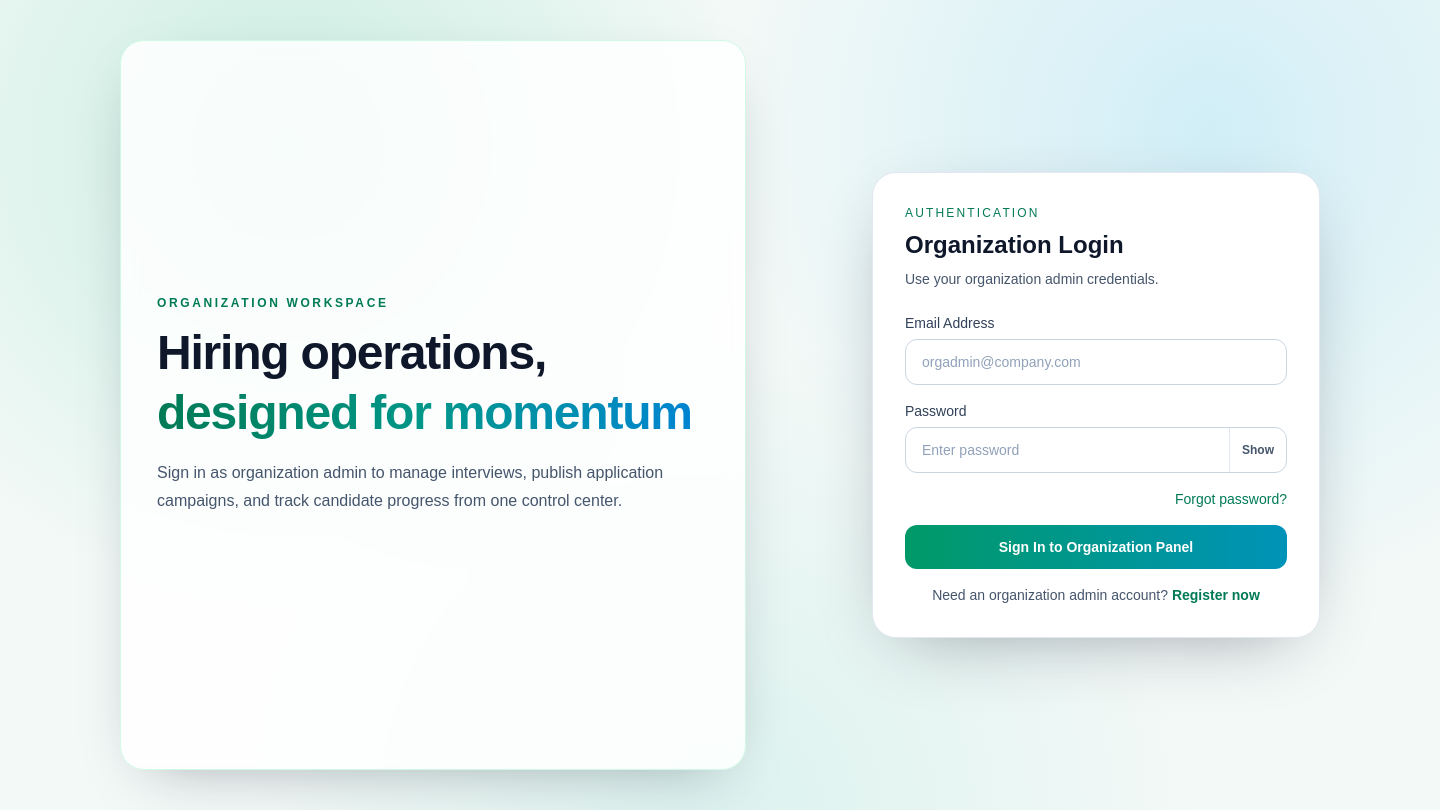
OrganizationAuthPage › shows validation error when email/password are empty
Step 1. Click the button "Sign In to Organization Panel" → coordinates (1096, 547), box [905, 525, 1287, 569]
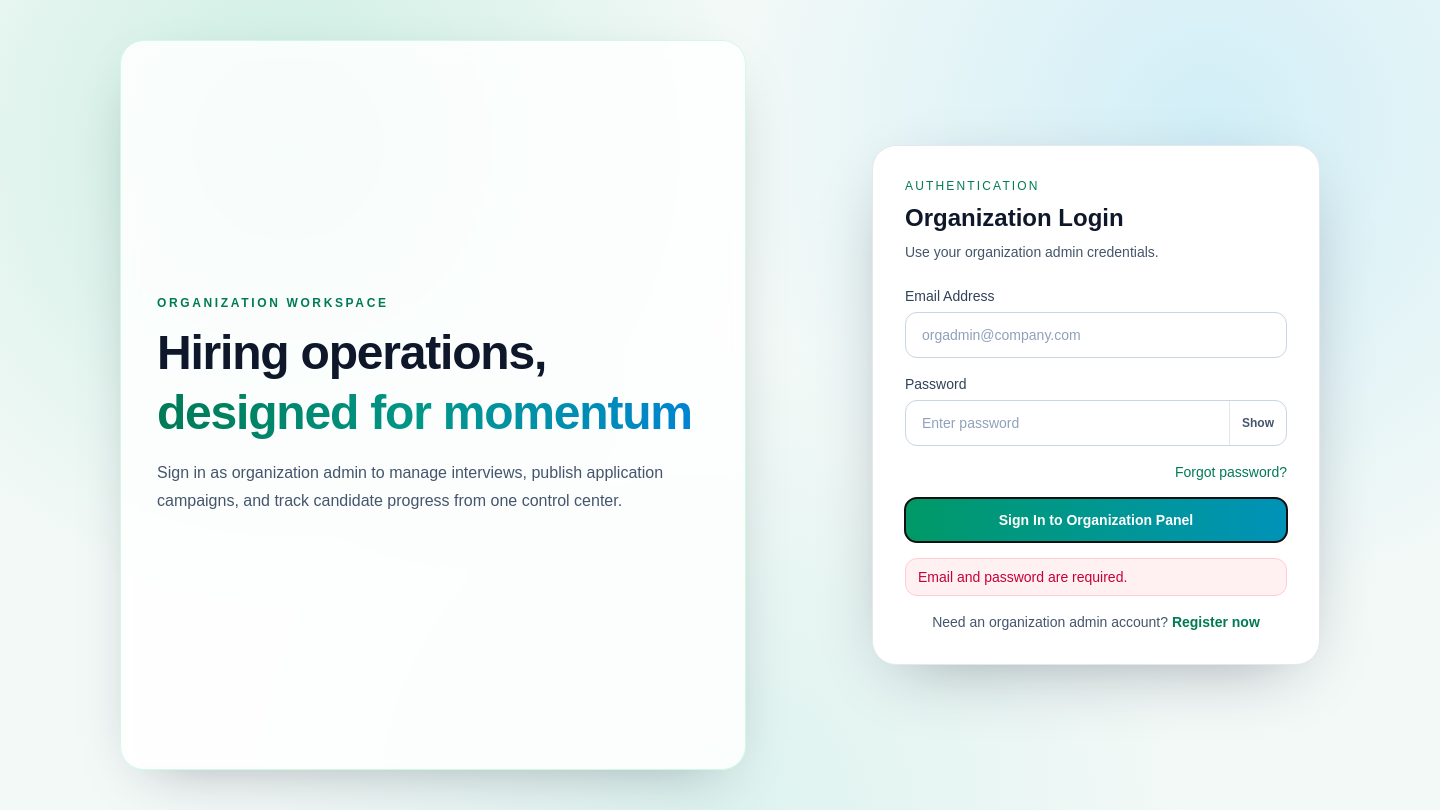
Check: the text "Email and password are required." is shown, box [905, 558, 1287, 596]
